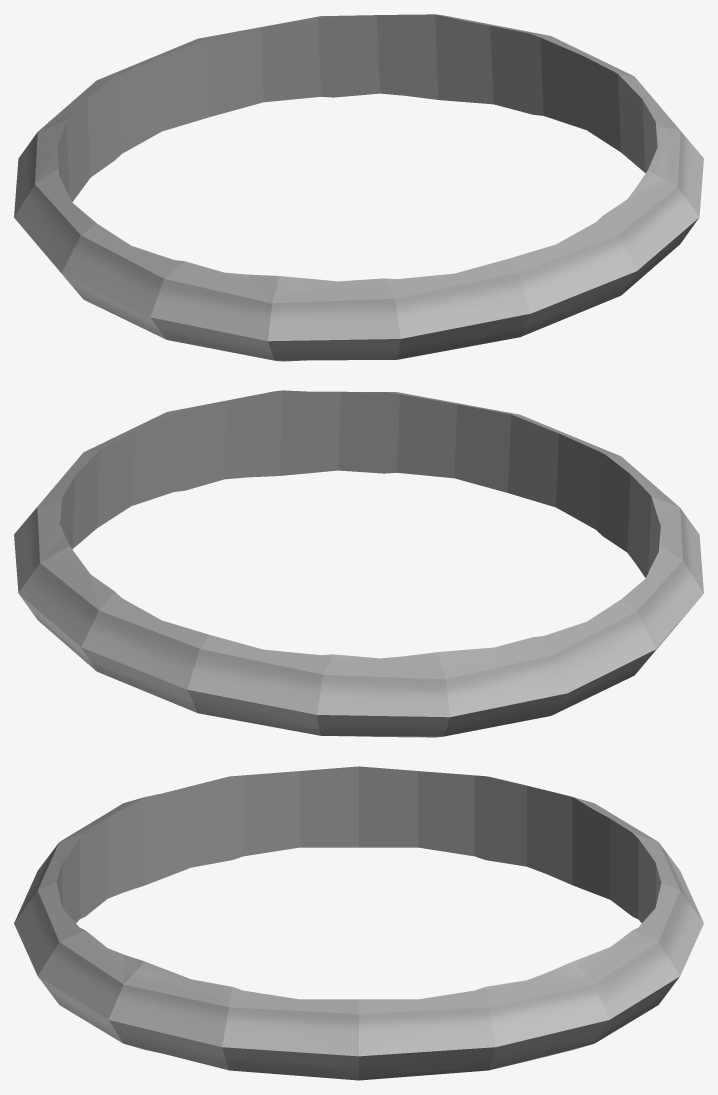
Rendered from tornade4.obj.
The picture shows the model from 3 angles, top to bottom: view 1: azimuth 30°, elevation 25°; view 2: azimuth 150°, elevation 25°; view 3: azimuth 270°, elevation 25°; orthographic projection.
Visible parts, largest first — view 1: 立方体.006; view 2: 立方体.006; view 3: 立方体.006.
Part boxes in pixels (<box>): 立方体.006: <box>14,14,703,361</box>; 立方体.006: <box>14,390,703,737</box>; 立方体.006: <box>14,766,703,1080</box>.
Bounding box in the file's own units: 3.43 × 0.5644 × 3.44.
1 material, 1 textured.
